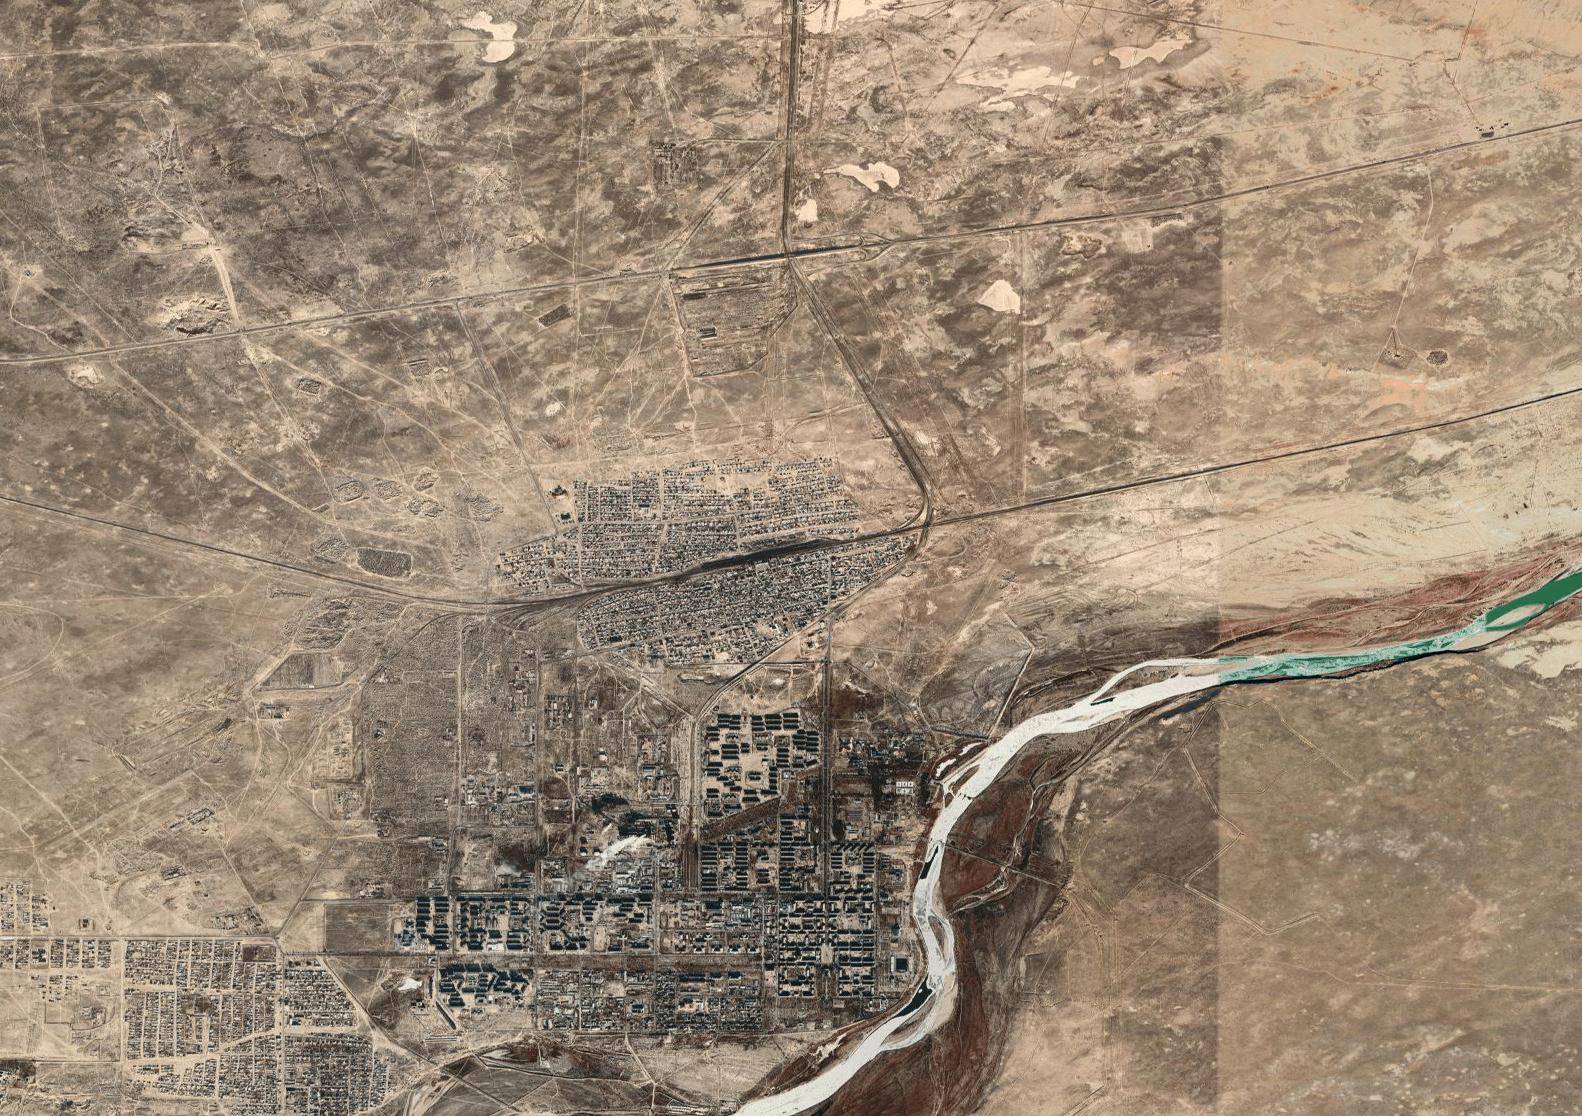train_station: (719, 537, 815, 574)
